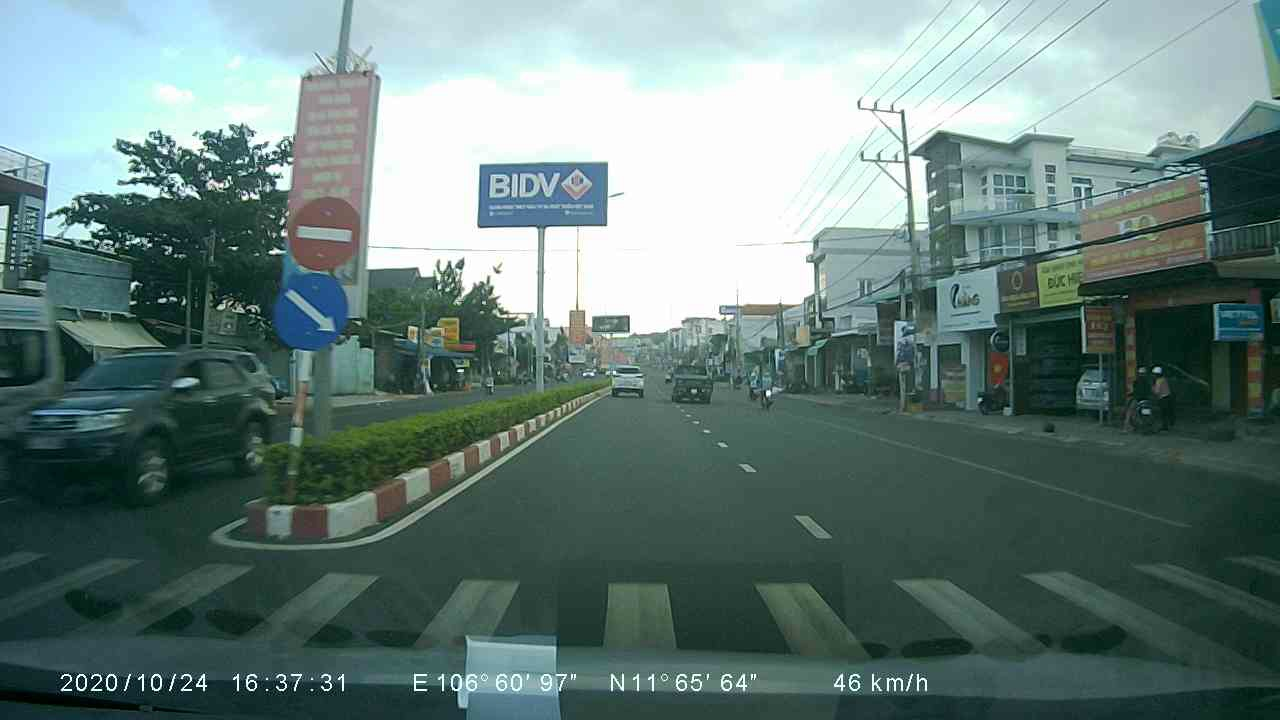Cam di nguoc chieu: (282, 193, 366, 272)
Huong di phai re phai: (268, 272, 352, 350)
